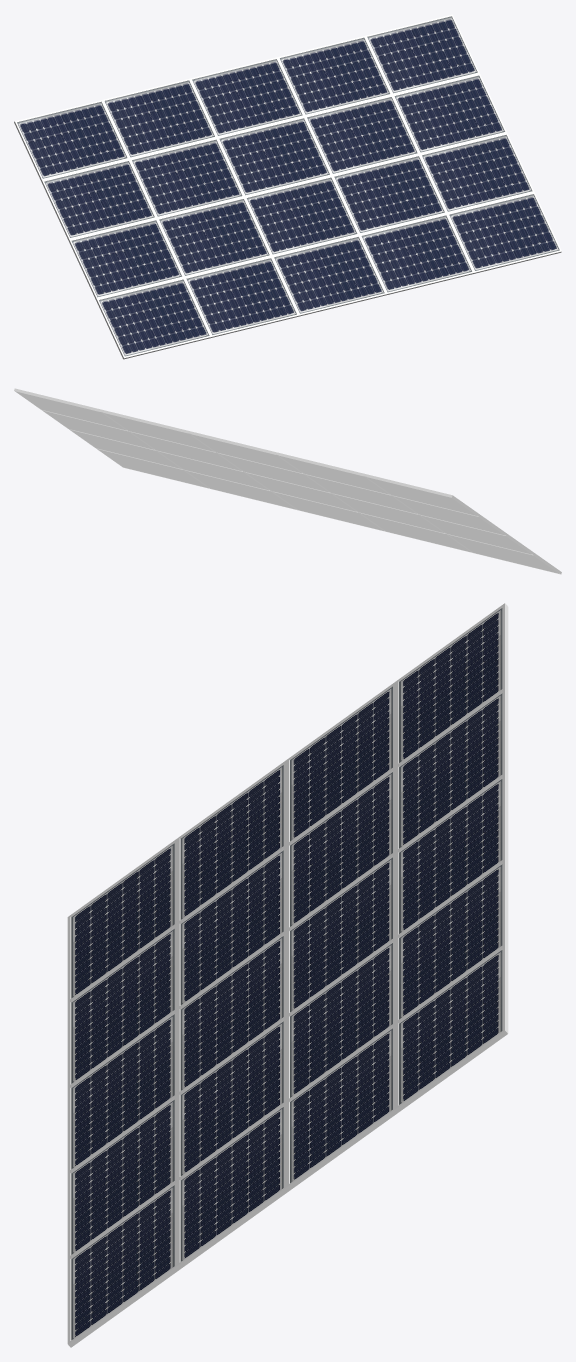
The model's file is SOLAR PANEL.fbx.
3 views of the same model, one above another, from view 1: azimuth 30°, elevation 25°; view 2: azimuth 150°, elevation 25°; view 3: azimuth 270°, elevation 25° (orthographic). The views are drawn at different scales.
Parts seen in each view (by area): view 1: PANNEAU_SOLAIRE, PANNEAU_SOLAIRE_1_4, PANNEAU_SOLAIRE_1_3, PANNEAU_SOLAIRE_1_9, PANNEAU_SOLAIRE_1_10, PANNEAU_SOLAIRE_1_13, PANNEAU_SOLAIRE_1_14, PANNEAU_SOLAIRE_1_20, PANNEAU_SOLAIRE_1_2, PANNEAU_SOLAIRE_1_12, PANNEAU_SOLAIRE_1_17, PANNEAU_SOLAIRE_1_18 (+8 smaller); view 2: PANNEAU_SOLAIRE_1_20, PANNEAU_SOLAIRE_1_19, PANNEAU_SOLAIRE_1_16, PANNEAU_SOLAIRE_1_17, PANNEAU_SOLAIRE_1_18, PANNEAU_SOLAIRE_1_13, PANNEAU_SOLAIRE_1_14, PANNEAU_SOLAIRE, PANNEAU_SOLAIRE_1_10, PANNEAU_SOLAIRE_1, PANNEAU_SOLAIRE_1_4, PANNEAU_SOLAIRE_1_2 (+8 smaller); view 3: PANNEAU_SOLAIRE_1_16, PANNEAU_SOLAIRE_1_2, PANNEAU_SOLAIRE_1_3, PANNEAU_SOLAIRE_1, PANNEAU_SOLAIRE_1_18, PANNEAU_SOLAIRE_1_20, PANNEAU_SOLAIRE_1_17, PANNEAU_SOLAIRE_1_19, PANNEAU_SOLAIRE_1_6, PANNEAU_SOLAIRE_1_8, PANNEAU_SOLAIRE_1_11, PANNEAU_SOLAIRE_1_12 (+8 smaller).
Part boxes in pixels (box(x1,y1,x2,y2)): PANNEAU_SOLAIRE: box(96, 278, 211, 359); PANNEAU_SOLAIRE_1_4: box(359, 213, 474, 295); PANNEAU_SOLAIRE_1_3: box(447, 192, 561, 273); PANNEAU_SOLAIRE_1_9: box(272, 235, 386, 316); PANNEAU_SOLAIRE_1_10: box(184, 256, 298, 337); PANNEAU_SOLAIRE_1_13: box(41, 159, 156, 240); PANNEAU_SOLAIRE_1_14: box(69, 218, 183, 299); PANNEAU_SOLAIRE_1_20: box(14, 100, 129, 181); PANNEAU_SOLAIRE_1_2: box(420, 133, 534, 213); PANNEAU_SOLAIRE_1_12: box(129, 138, 244, 218); PANNEAU_SOLAIRE_1_17: box(277, 36, 392, 116); PANNEAU_SOLAIRE_1_18: box(190, 57, 304, 137); PANNEAU_SOLAIRE_1_20: box(364, 474, 479, 516); PANNEAU_SOLAIRE_1_19: box(277, 452, 391, 495); PANNEAU_SOLAIRE_1_16: box(14, 388, 128, 431); PANNEAU_SOLAIRE_1_17: box(101, 410, 216, 452); PANNEAU_SOLAIRE_1_18: box(189, 431, 303, 473); PANNEAU_SOLAIRE_1_13: box(393, 496, 506, 535); PANNEAU_SOLAIRE_1_14: box(421, 515, 534, 555); PANNEAU_SOLAIRE: box(448, 534, 561, 574); PANNEAU_SOLAIRE_1_10: box(359, 512, 473, 552); PANNEAU_SOLAIRE_1: box(42, 410, 156, 450); PANNEAU_SOLAIRE_1_4: box(184, 469, 298, 510); PANNEAU_SOLAIRE_1_2: box(69, 429, 183, 469); PANNEAU_SOLAIRE_1_16: box(395, 945, 508, 1111); PANNEAU_SOLAIRE_1_2: box(177, 1102, 288, 1269); PANNEAU_SOLAIRE_1_3: box(67, 1181, 179, 1347); PANNEAU_SOLAIRE_1: box(286, 1024, 398, 1190); PANNEAU_SOLAIRE_1_18: box(395, 774, 508, 937); PANNEAU_SOLAIRE_1_20: box(395, 603, 508, 766); PANNEAU_SOLAIRE_1_17: box(395, 860, 508, 1022); PANNEAU_SOLAIRE_1_19: box(395, 689, 508, 851); PANNEAU_SOLAIRE_1_6: box(286, 938, 395, 1101); PANNEAU_SOLAIRE_1_8: box(177, 931, 286, 1094); PANNEAU_SOLAIRE_1_11: box(177, 846, 286, 1009); PANNEAU_SOLAIRE_1_12: box(286, 767, 395, 930).
Bounding box in the file's own units: 605 × 210 × 263.
2 materials, 1 textured.
